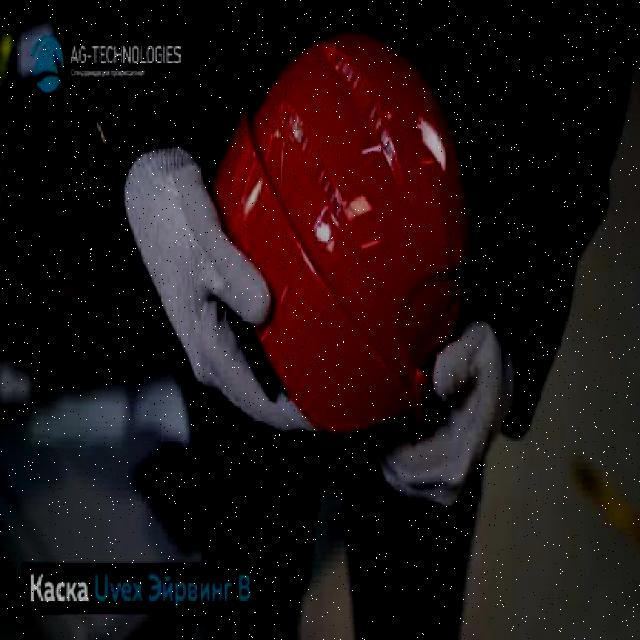Gloves: (123, 141, 322, 434), (366, 310, 520, 512)
Helmet: (203, 27, 472, 444)
